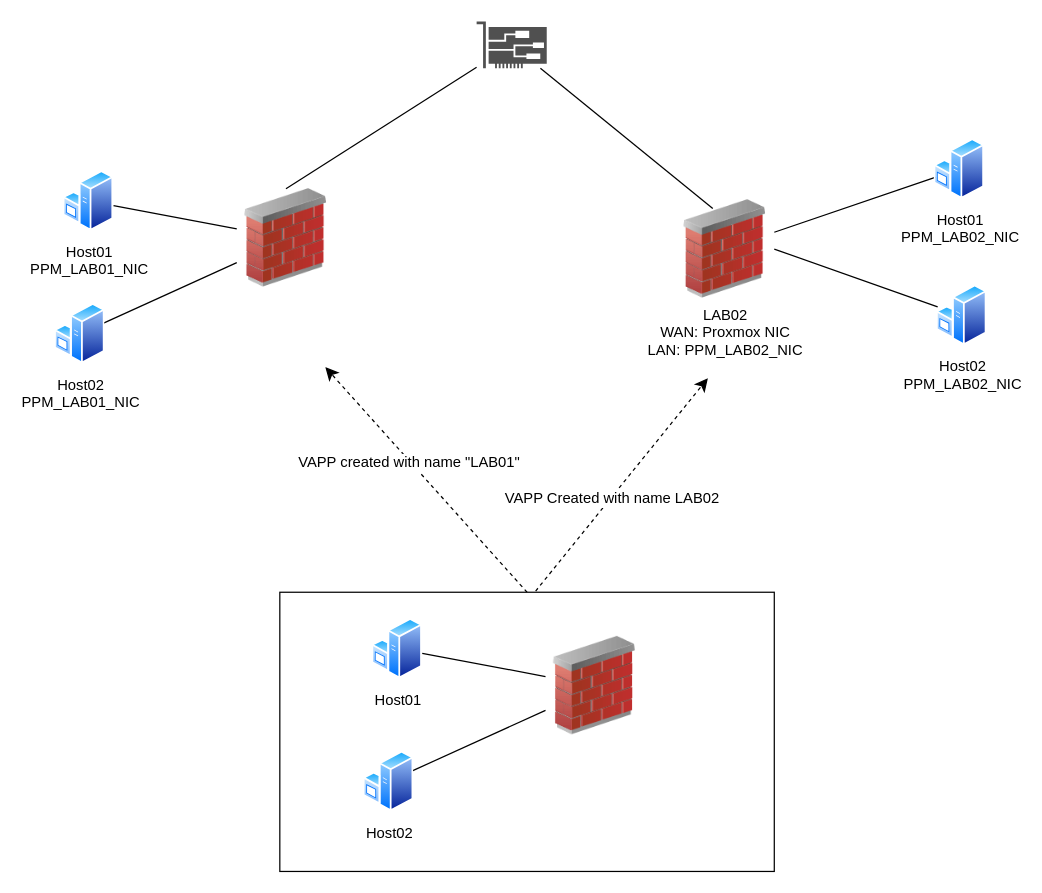
Some shapes in this 1042 by 893 pixel diagram are drawn without their labels. The shapes that lost their labels are listed below. From the top down, each one's centre as x and y in pixels, then its label:
At [511,44]: "Proxmox NIC".
At [285,237]: "LAB01 WAN: Proxmox NIC LAN: PPM_LAB01_NIC".
At [594,685]: "LAB - Template WAN: Proxmox NIC LAN: None".
